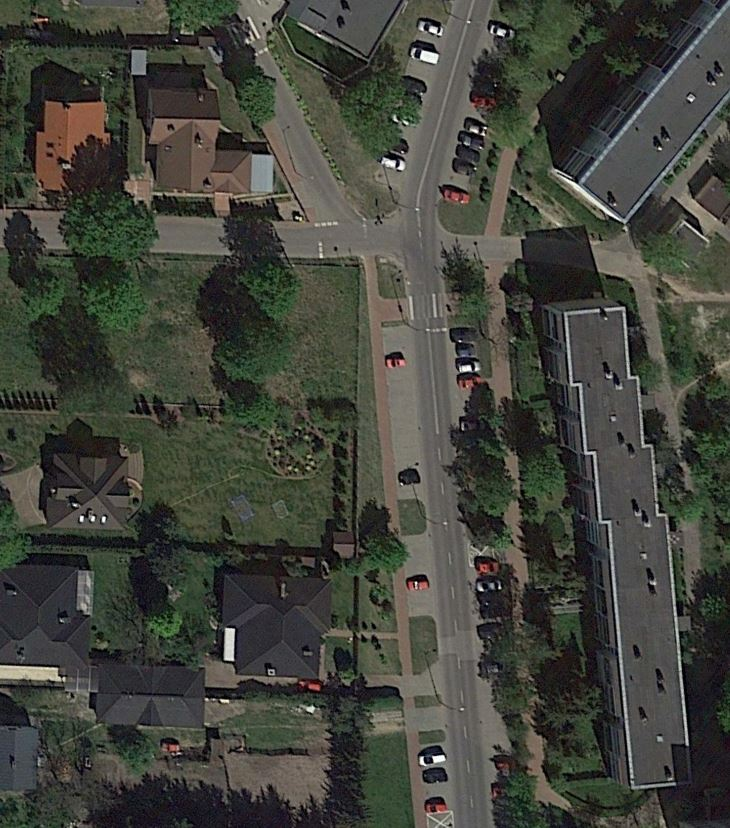block of flats: (526, 277, 710, 793), (541, 1, 730, 230)
family house: (1, 552, 218, 734), (139, 81, 288, 212), (214, 550, 342, 700), (32, 442, 142, 546), (28, 82, 112, 202)
